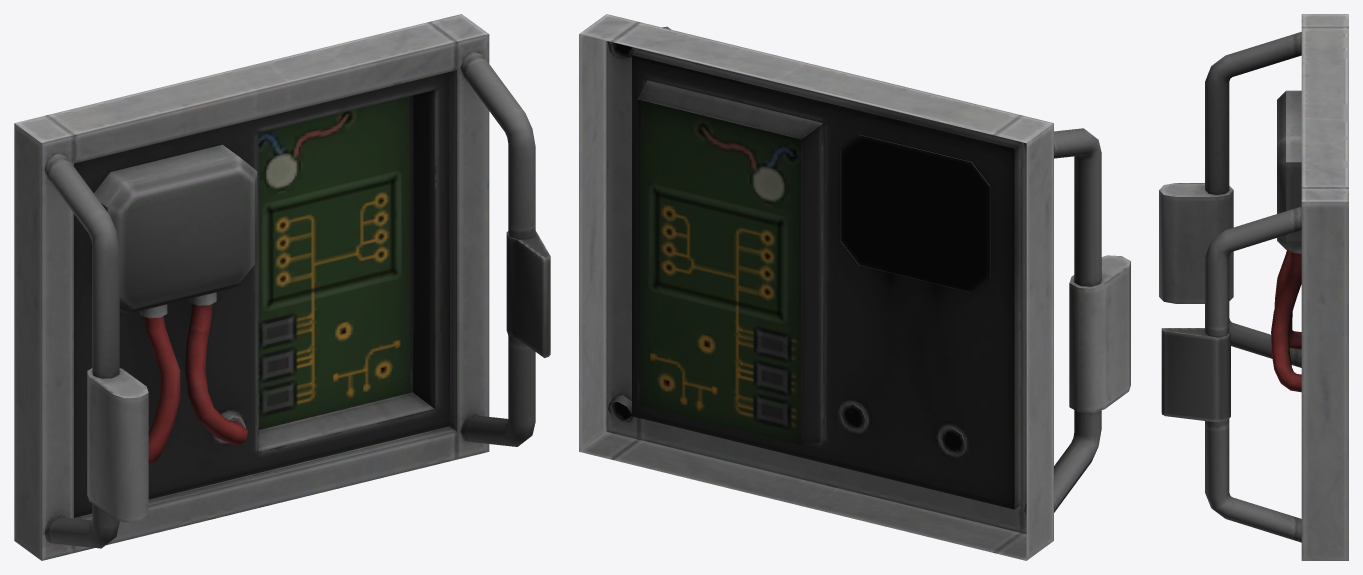
File: door_panel_broken_base.dae
3 renders of one model, left to right at view 1: azimuth 30°, elevation 25°; view 2: azimuth 150°, elevation 25°; view 3: azimuth 270°, elevation 25°, orthographic. The views are drawn at different scales.
Parts seen in each view (by area): view 1: panel_base; view 2: panel_base; view 3: panel_base.
Part boxes in pixels (bbox=[...]): panel_base: bbox=[14, 14, 550, 560]; panel_base: bbox=[579, 14, 1130, 560]; panel_base: bbox=[1159, 14, 1348, 560].
Bounding box in the file's own units: 0.4629 × 0.4114 × 0.1971.
